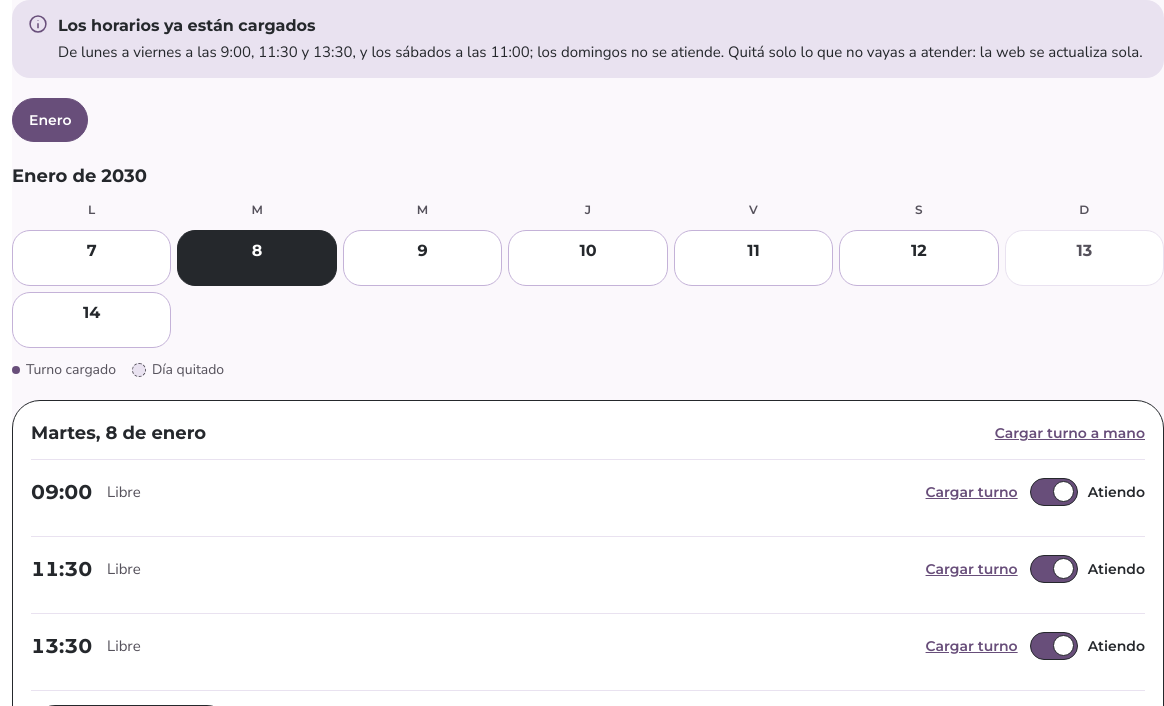
Test: ScheduleManager › shows the error when an action fails
This screenshot has width=1164, height=706.
Step 1. Click the switch named "09:00: atender" → (1087, 492), box x1=1030 y1=470 x2=1145 y2=514
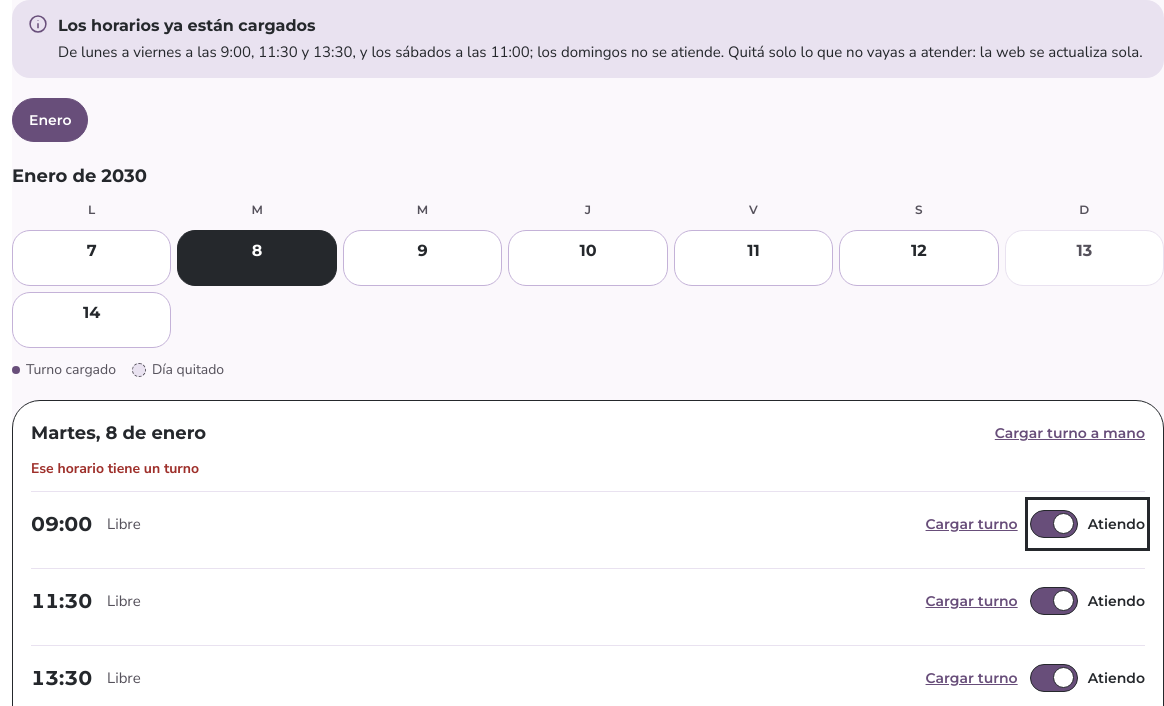
Now the message reads "Ese horario tiene un turno", box x1=31 y1=459 x2=199 y2=478
